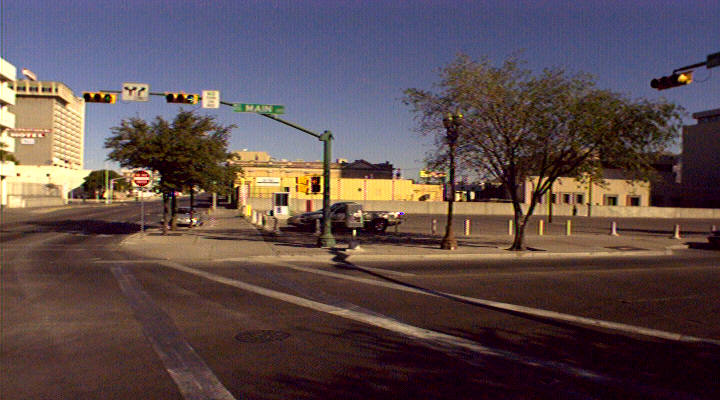Ramp: (120, 238, 256, 264)
